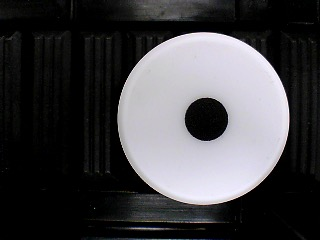BOHO: (116, 31, 290, 205)
